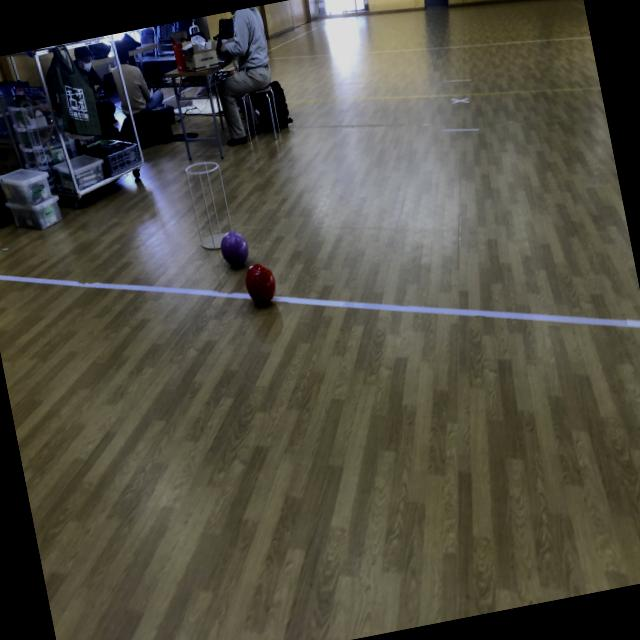purple_ball: (217, 228, 252, 270)
red_ball: (242, 261, 280, 307)
